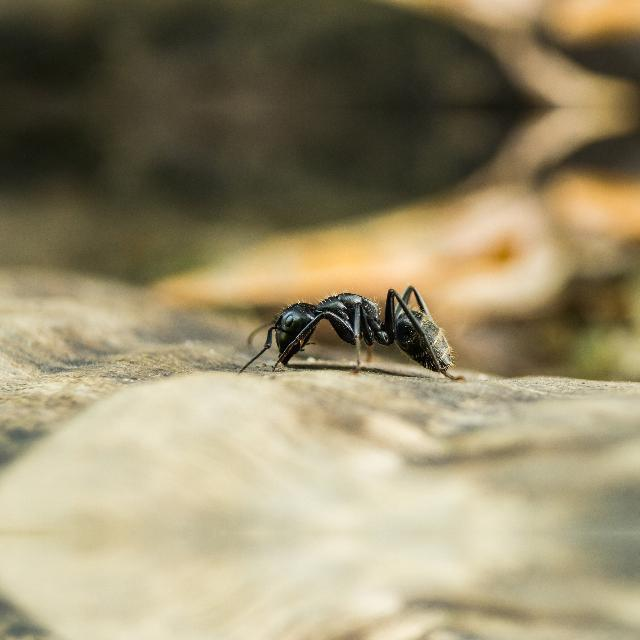Camponotus: (239, 262, 477, 390)
